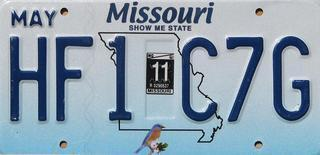placa de veiculo: (3, 0, 320, 153)
